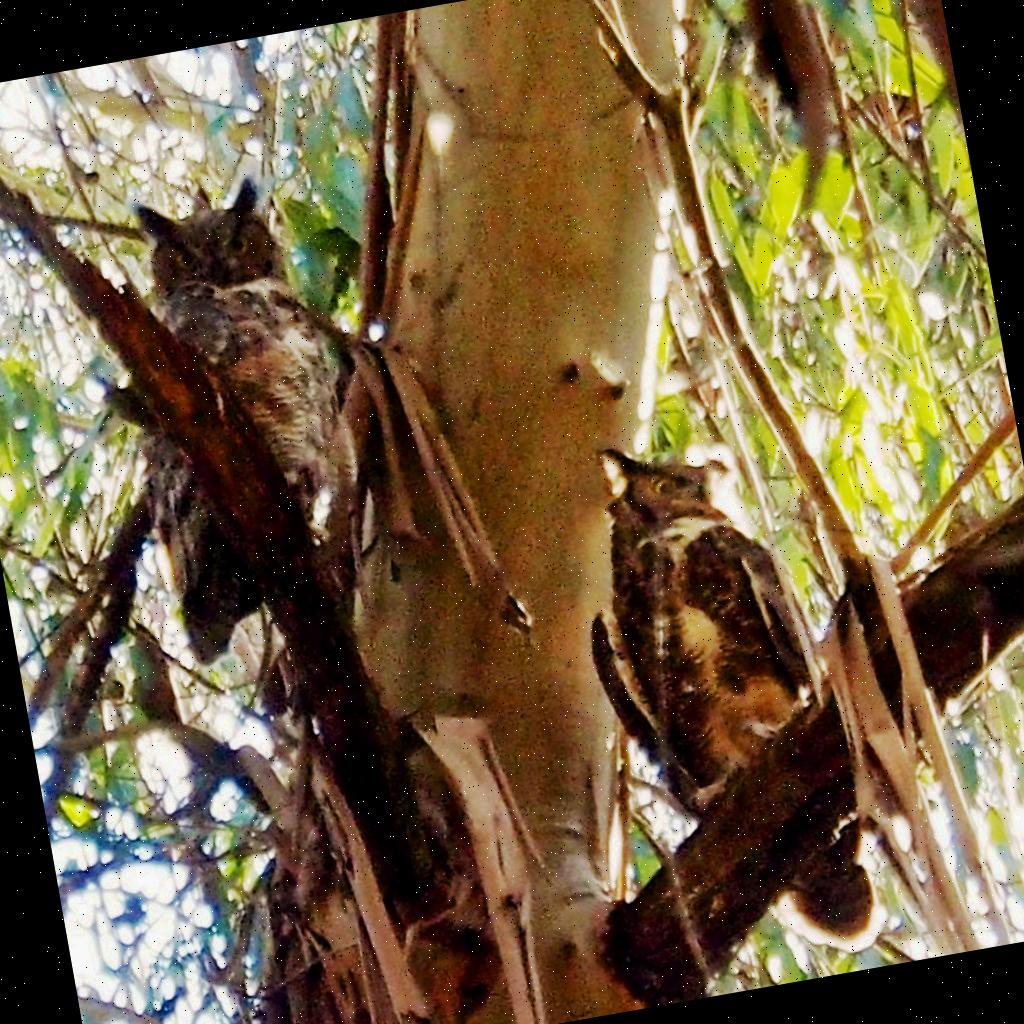Owl: (557, 411, 902, 996), (83, 158, 393, 669)
